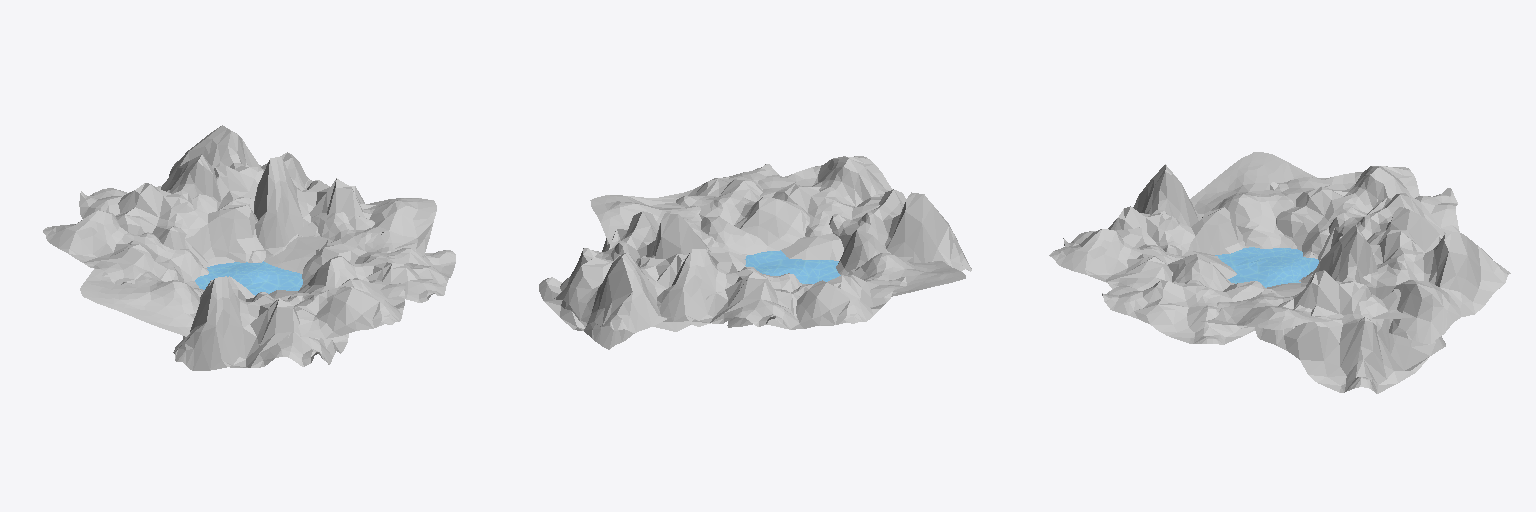
The picture shows the model from 3 angles: view 1: azimuth 30°, elevation 25°; view 2: azimuth 150°, elevation 25°; view 3: azimuth 270°, elevation 25°; orthographic projection.
Visible parts, largest first — view 1: Ground_01.006_Plane.011, Ground_01.002_Plane.007, Ground_01_Plane.001, Ground_01.004_Plane.009, Ground_01.007_Plane.012, Ground_01.003_Plane.008, Ground_01.005_Plane.010, Ground_02.002_Plane.006, Ground_01.001_Plane.002, Ground_02_Plane.002, Ground_02.001_Plane.005; view 2: Ground_01.006_Plane.011, Ground_01.004_Plane.009, Ground_01.002_Plane.007, Ground_01.001_Plane.002, Ground_01.003_Plane.008, Ground_01.007_Plane.012, Ground_01_Plane.001, Ground_01.005_Plane.010, Ground_02.002_Plane.006, Ground_02_Plane.002, Ground_02.001_Plane.005; view 3: Ground_01.007_Plane.012, Ground_01.001_Plane.002, Ground_01.004_Plane.009, Ground_01_Plane.001, Ground_01.002_Plane.007, Ground_02.002_Plane.006, Ground_01.003_Plane.008, Ground_01.006_Plane.011, Ground_02_Plane.002, Ground_01.005_Plane.010, Ground_02.001_Plane.005.
Part boxes in pixels (x1,y1,x2,y2): Ground_01.006_Plane.011: (79, 154, 263, 268); Ground_01.002_Plane.007: (173, 276, 348, 370); Ground_01_Plane.001: (43, 210, 208, 286); Ground_01.004_Plane.009: (298, 244, 455, 302); Ground_01.007_Plane.012: (254, 157, 383, 248); Ground_01.003_Plane.008: (257, 278, 405, 344); Ground_01.005_Plane.010: (311, 198, 436, 257); Ground_02.002_Plane.006: (80, 268, 204, 336); Ground_01.001_Plane.002: (167, 125, 311, 236); Ground_02_Plane.002: (195, 261, 302, 295); Ground_02.001_Plane.005: (190, 236, 327, 317); Ground_01.006_Plane.011: (657, 249, 801, 328); Ground_01.004_Plane.009: (659, 164, 809, 254); Ground_01.002_Plane.007: (829, 189, 971, 274); Ground_01.001_Plane.002: (554, 252, 721, 332); Ground_01.003_Plane.008: (758, 156, 892, 236); Ground_01.007_Plane.012: (539, 211, 711, 349); Ground_01_Plane.001: (727, 275, 906, 329); Ground_01.005_Plane.010: (590, 195, 746, 255); Ground_02.002_Plane.006: (846, 253, 965, 296); Ground_02_Plane.002: (745, 250, 840, 283); Ground_02.001_Plane.005: (707, 233, 912, 264); Ground_01.007_Plane.012: (1252, 225, 1445, 393); Ground_01.001_Plane.002: (1361, 230, 1510, 344); Ground_01.004_Plane.009: (1102, 254, 1266, 344); Ground_01_Plane.001: (1270, 166, 1419, 257); Ground_01.002_Plane.007: (1063, 164, 1245, 289); Ground_02.002_Plane.006: (1190, 152, 1316, 248); Ground_01.003_Plane.008: (1049, 227, 1187, 290); Ground_01.006_Plane.011: (1307, 188, 1459, 275); Ground_02_Plane.002: (1215, 247, 1318, 287); Ground_01.005_Plane.010: (1195, 289, 1343, 329); Ground_02.001_Plane.005: (1185, 214, 1320, 296).
Bounding box in the file's own units: 84.55 × 24.86 × 91.16.
13 materials, 1 textured.